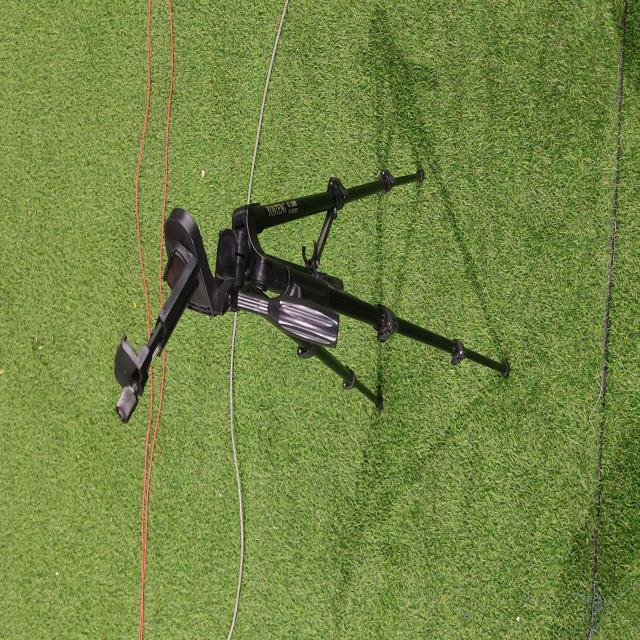Camer Stand: (113, 164, 510, 425)
